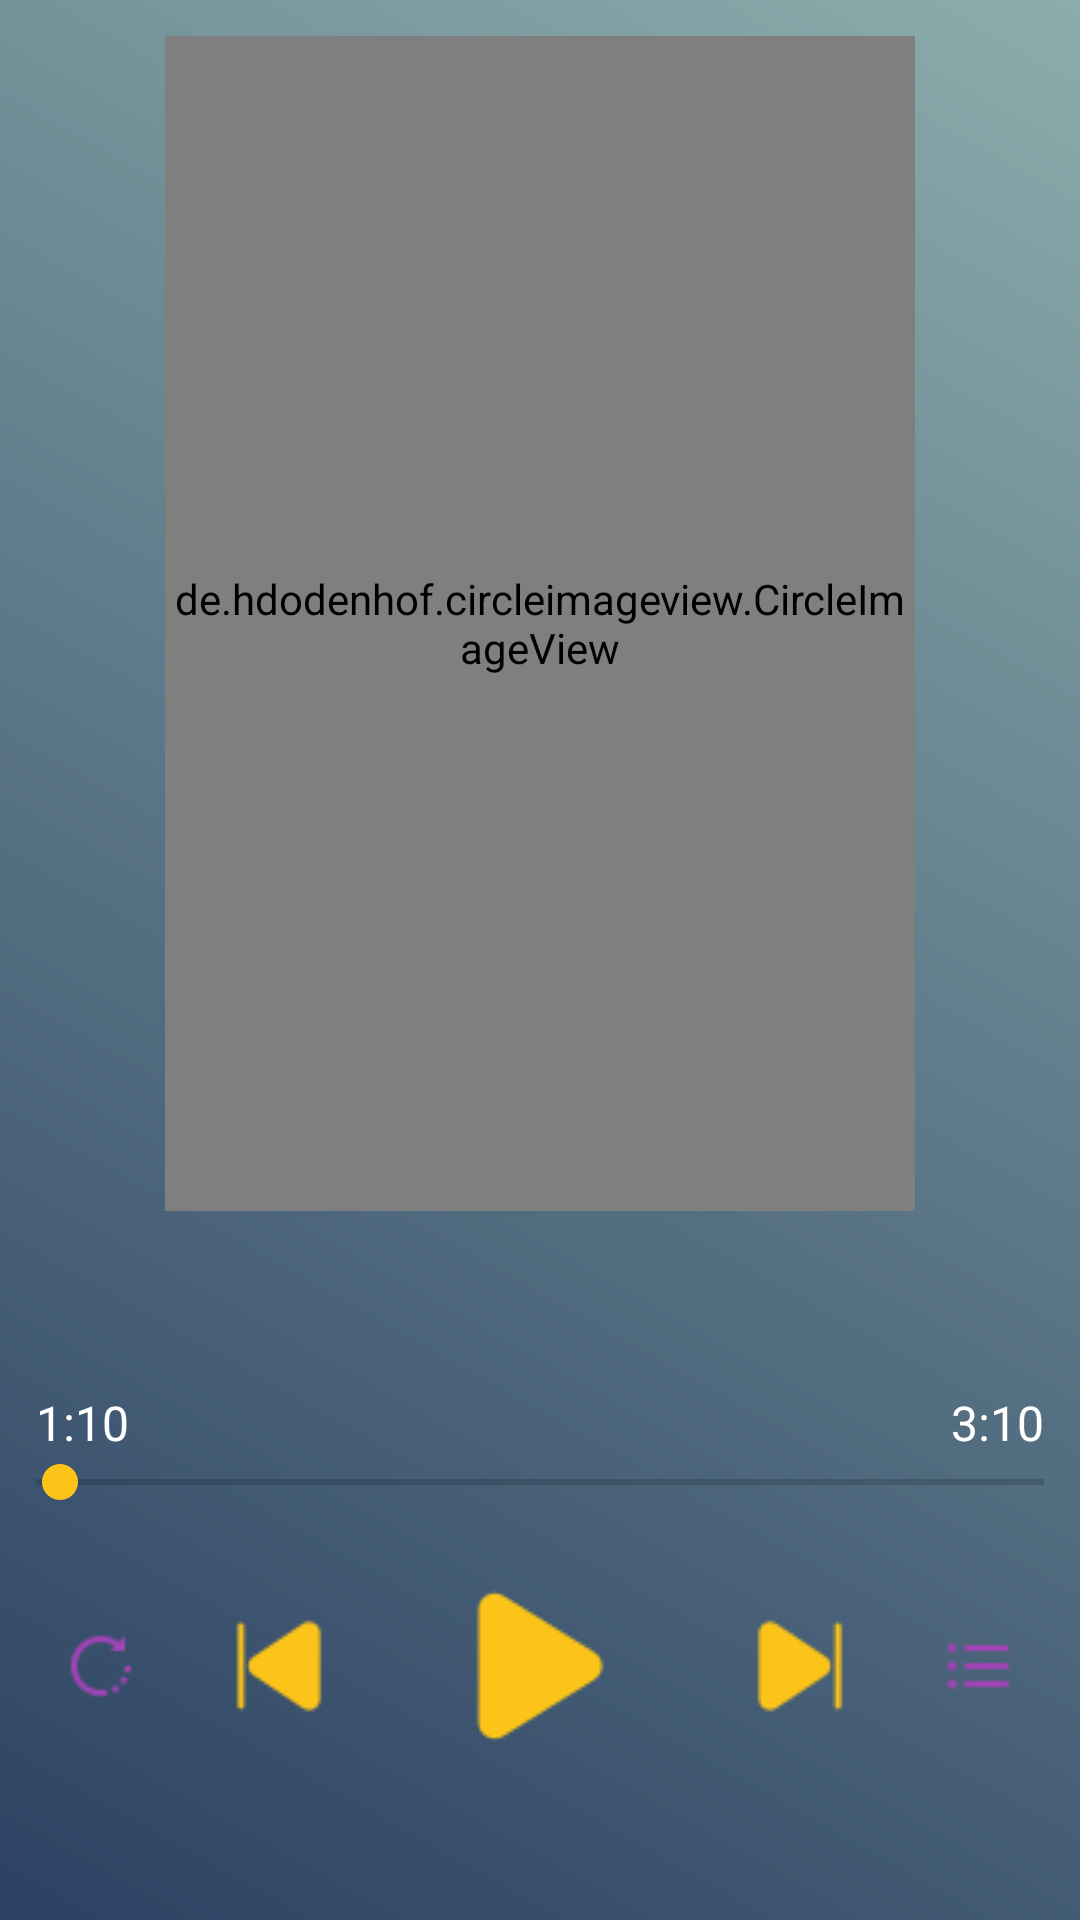

Where to tap for icons on this 1080w x 1920h app screen, as [x,y]:
list: [978,1666]
loop: [101,1666]
next: [800,1666]
play: [540,1666]
previous: [279,1666]
